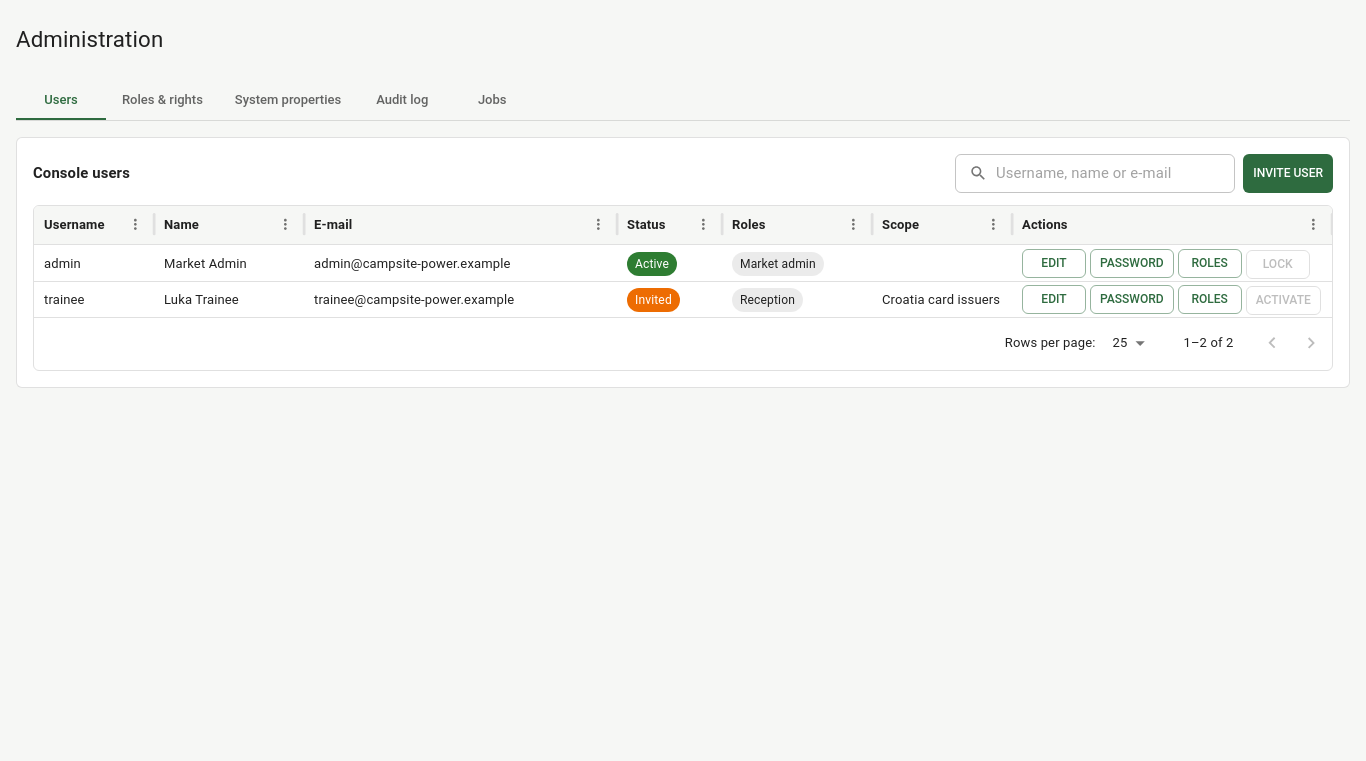
it: administration tab › hides the logins in the audit log by default
Click the tab "Audit log": coordinates (402, 100) [357,80,447,120]
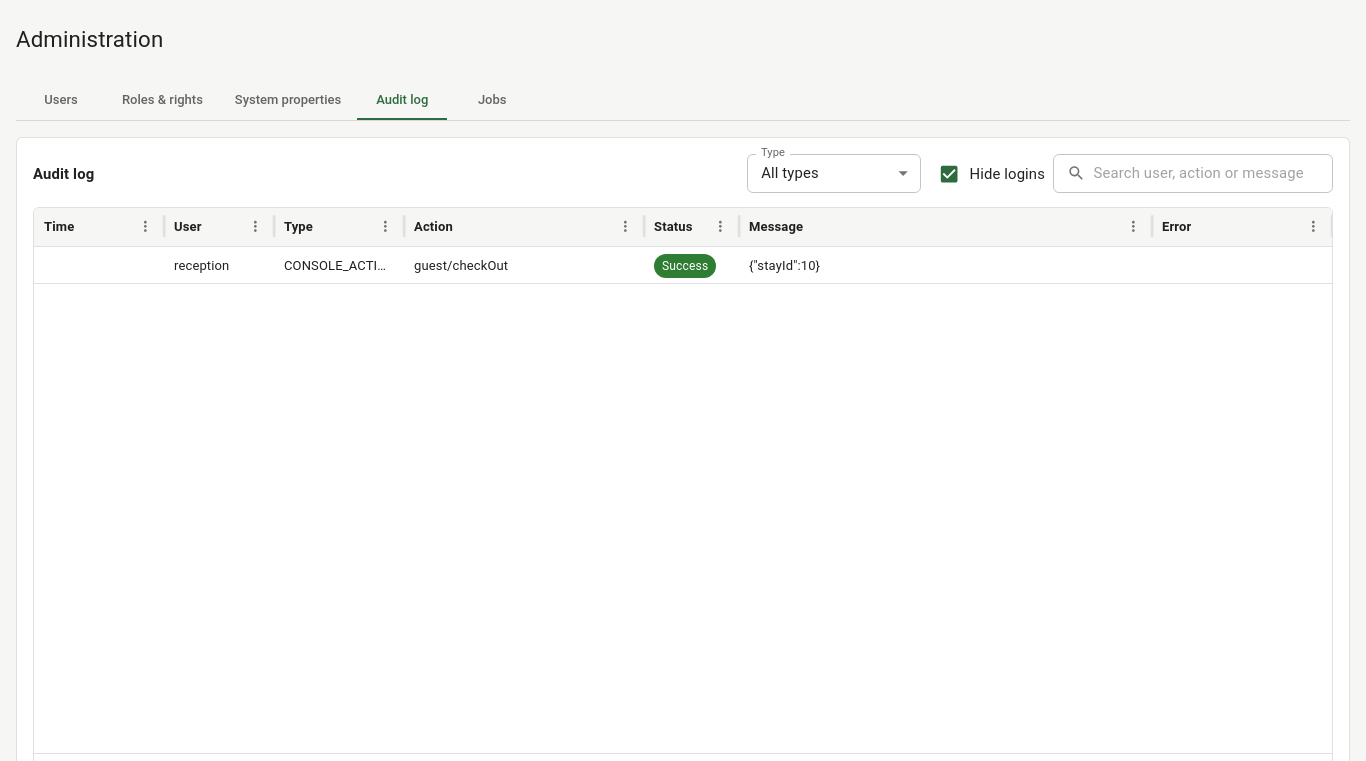
Check: the text "guest/checkOut" is shown, box [414,258,508,272]
